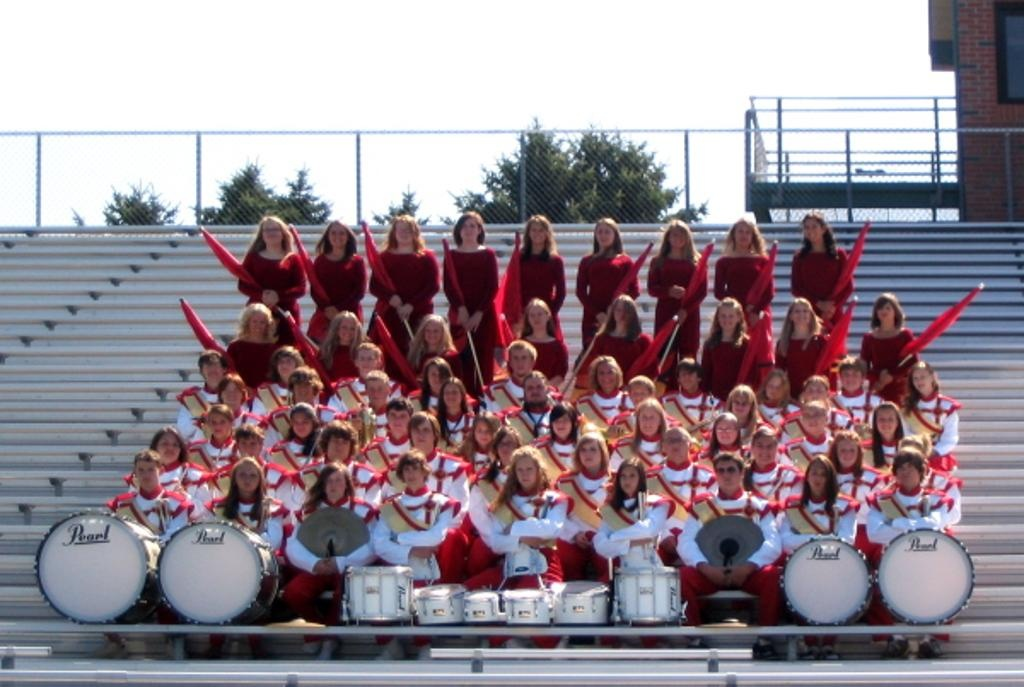human_face: (409, 418, 433, 446), (134, 458, 158, 486), (158, 432, 180, 462), (716, 460, 740, 486), (514, 456, 536, 484), (800, 406, 824, 430), (754, 436, 776, 462), (236, 463, 256, 491), (208, 411, 228, 438), (386, 407, 408, 431), (238, 435, 260, 459), (508, 349, 530, 373), (523, 378, 545, 402), (579, 442, 601, 466), (874, 409, 896, 433), (896, 462, 918, 486), (356, 348, 376, 374), (497, 434, 517, 460), (837, 436, 855, 464), (808, 461, 826, 489), (596, 363, 616, 388), (640, 409, 660, 434), (401, 464, 423, 486), (666, 439, 688, 461), (804, 382, 826, 404), (292, 410, 312, 434), (329, 435, 349, 459), (676, 366, 696, 390), (551, 412, 571, 436), (716, 420, 736, 444), (730, 392, 750, 416), (841, 366, 861, 390), (912, 366, 932, 390), (427, 364, 447, 387), (474, 418, 492, 443), (630, 384, 650, 406), (366, 378, 384, 402), (326, 473, 344, 497), (718, 304, 736, 328), (328, 224, 346, 247), (262, 222, 282, 242), (202, 359, 220, 381), (222, 382, 240, 404), (596, 224, 614, 246), (294, 376, 310, 400), (620, 466, 636, 490), (443, 384, 461, 404), (528, 307, 546, 327), (803, 218, 821, 238), (792, 302, 810, 322), (338, 319, 354, 341), (278, 354, 294, 376), (668, 226, 684, 248), (614, 302, 630, 324), (767, 376, 783, 398), (736, 222, 752, 243), (460, 218, 476, 238), (529, 222, 545, 242), (396, 220, 410, 242), (250, 310, 264, 332), (426, 320, 440, 342), (876, 301, 892, 319)
